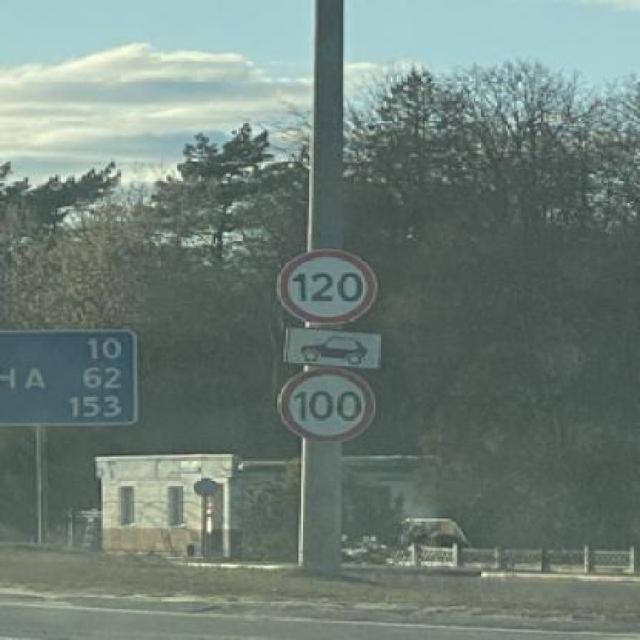forb_speed_over_100: (281, 372, 376, 439)
forb_speed_over_120: (282, 248, 376, 325)
